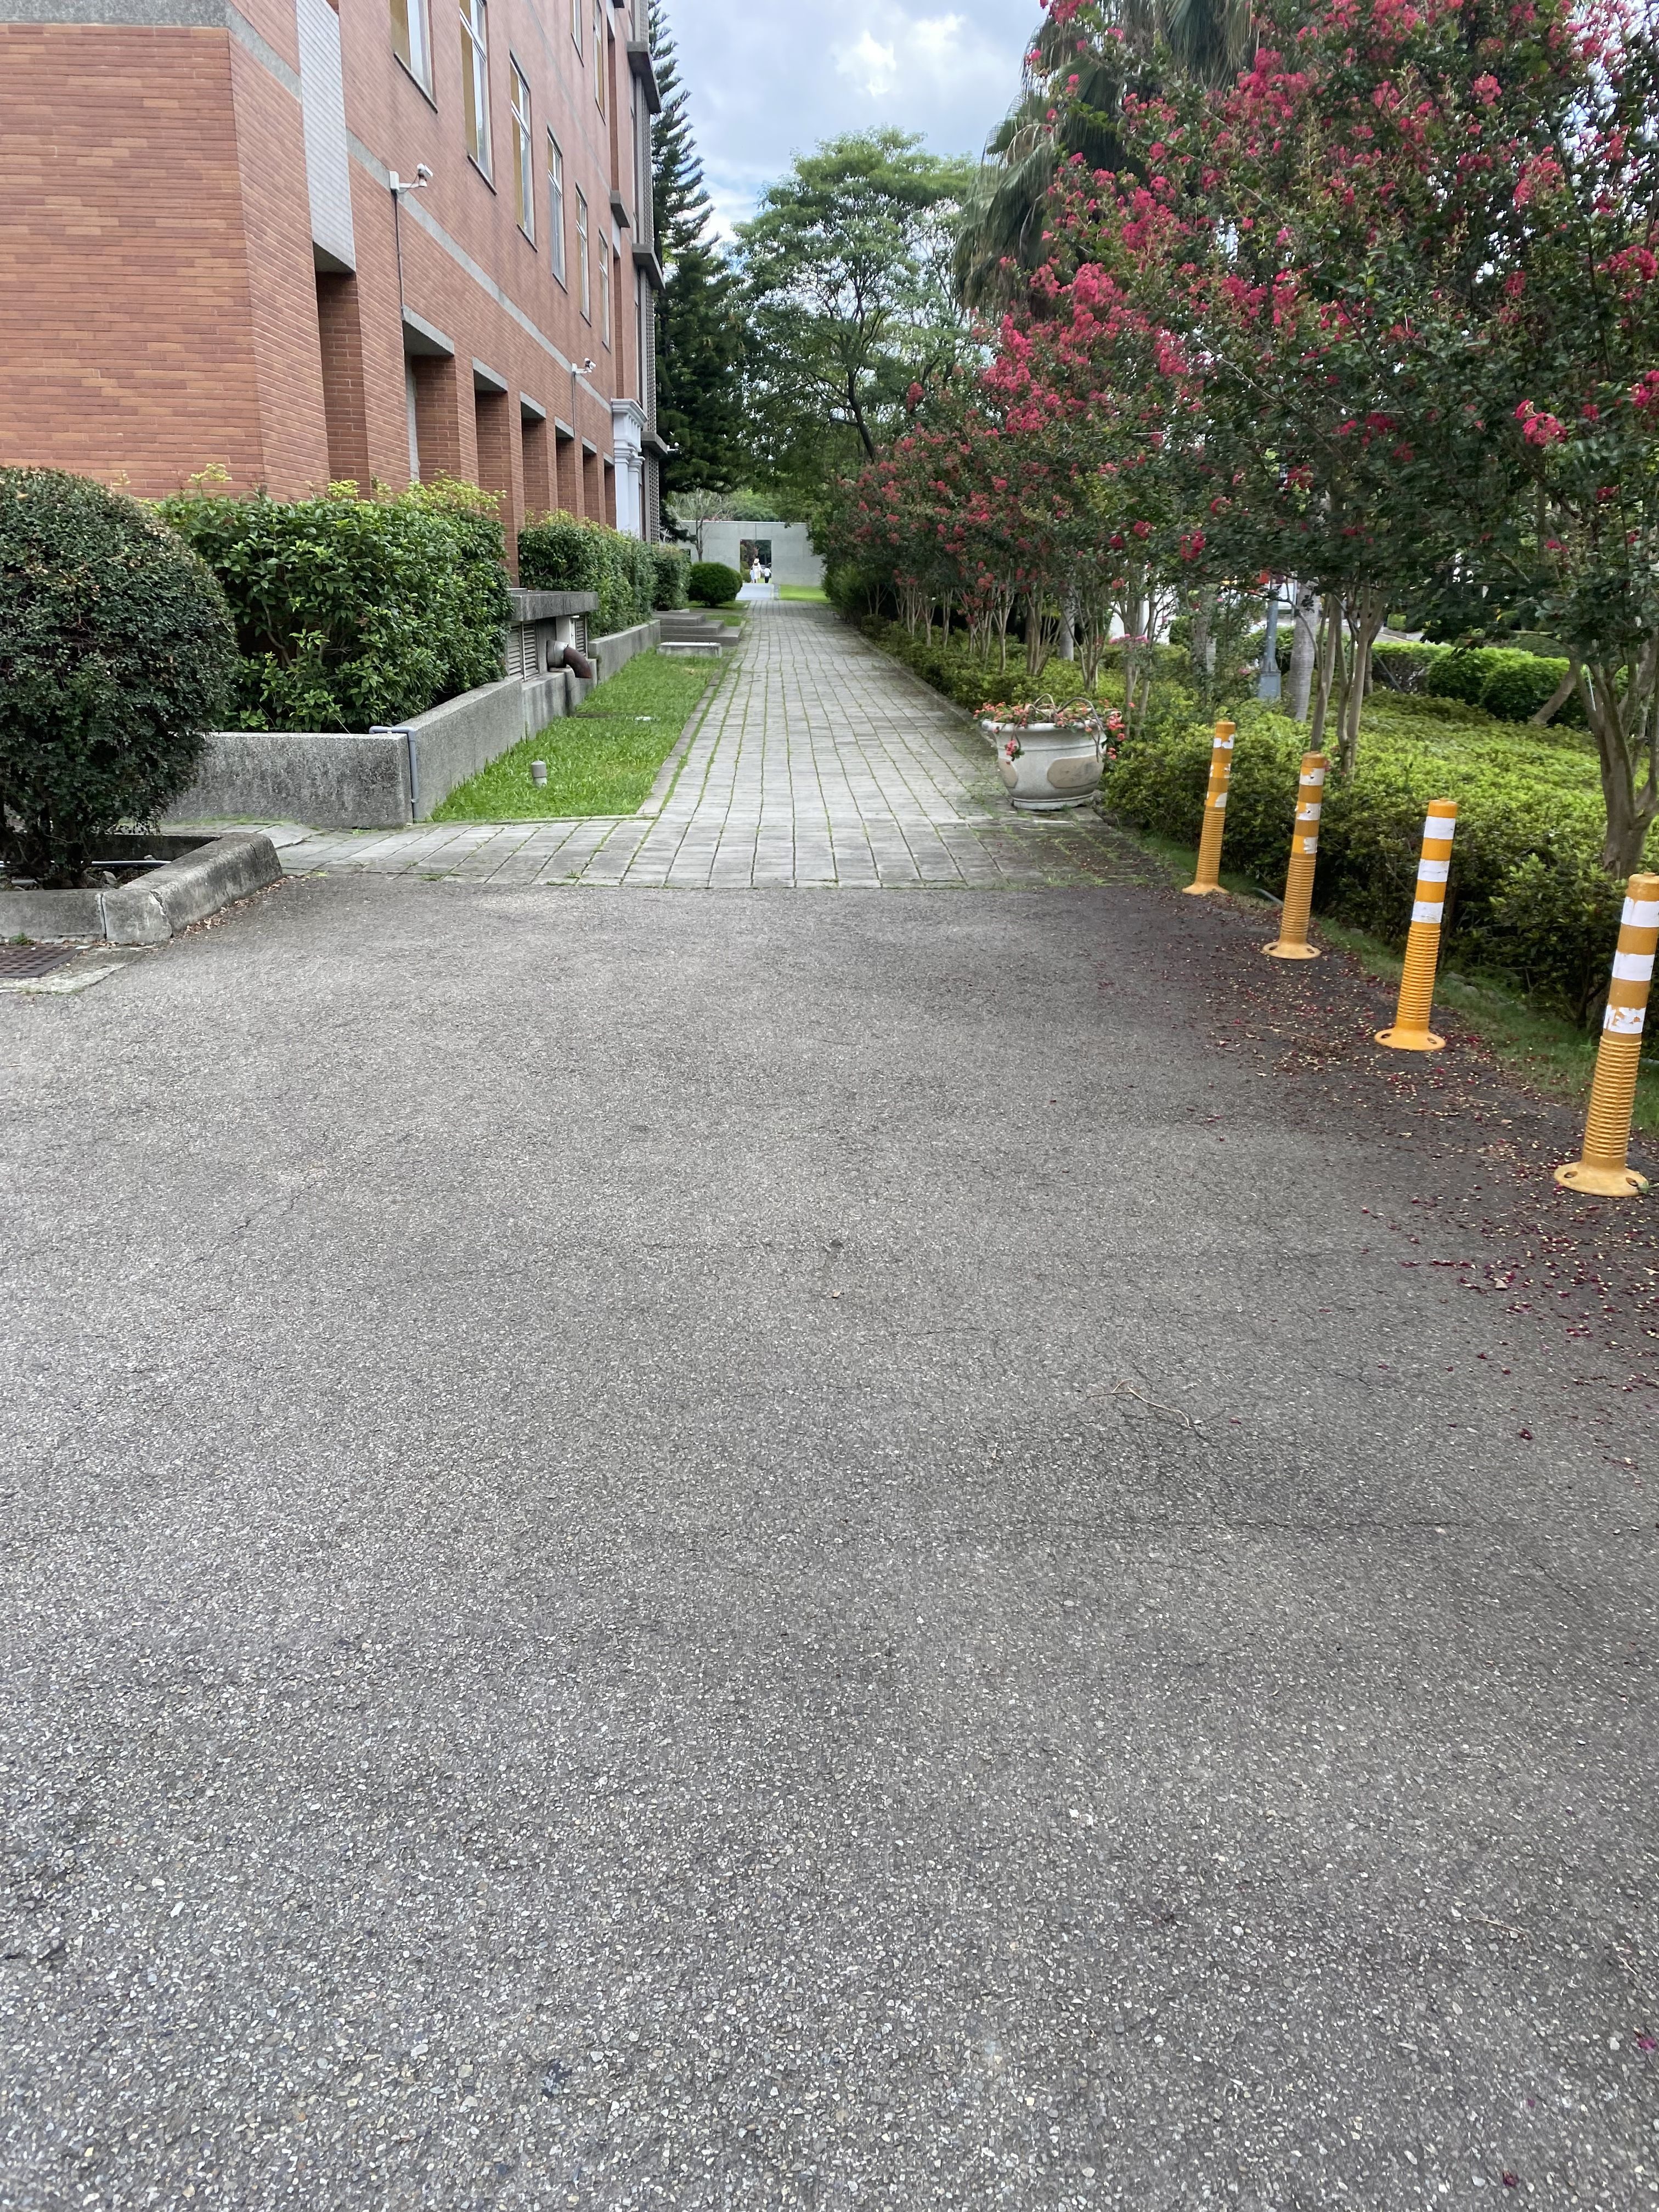0: (349, 822, 1513, 2196)
sidewalk: (687, 571, 1009, 1003)
